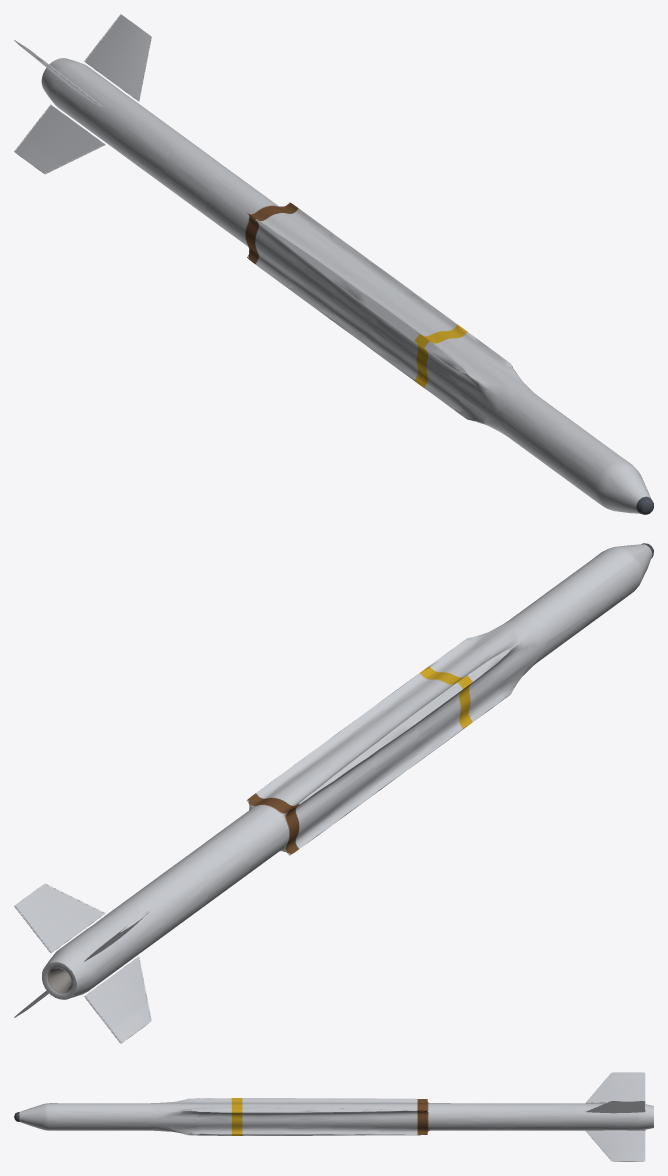
Rendered from irist.glb.
3 views of the same model, one above another, from view 1: azimuth 30°, elevation 25°; view 2: azimuth 150°, elevation 25°; view 3: azimuth 270°, elevation 25° (orthographic). The views are drawn at different scales.
Visible parts, largest first — view 1: airframe, fsim:fin:3419906077:1|elevator+aileron:1+rudder:1@-20,20, fsim:fin:3899119507:1|elevator+aileron:-1+rudder:1@-20,20; view 2: airframe, fsim:fin:3899119507:1|elevator+aileron:-1+rudder:1@-20,20, fsim:fin:3419906077:1|elevator+aileron:1+rudder:1@-20,20; view 3: airframe, fsim:fin:1916934482:1|elevator+aileron:1+rudder:-1@-20,20, fsim:fin:453677541:1|elevator+aileron:-1+rudder:-1@-20,20, fsim:fin:3419906077:1|elevator+aileron:1+rudder:1@-20,20.
Boxes of the visible parts, x1,y1,x2,y2 form: airframe: [41, 58, 653, 514]; fsim:fin:3419906077:1|elevator+aileron:1+rudder:1@-20,20: [84, 14, 151, 101]; fsim:fin:3899119507:1|elevator+aileron:-1+rudder:1@-20,20: [14, 104, 105, 174]; airframe: [42, 543, 653, 999]; fsim:fin:3899119507:1|elevator+aileron:-1+rudder:1@-20,20: [84, 956, 151, 1043]; fsim:fin:3419906077:1|elevator+aileron:1+rudder:1@-20,20: [14, 883, 105, 953]; airframe: [14, 1098, 653, 1135]; fsim:fin:1916934482:1|elevator+aileron:1+rudder:-1@-20,20: [585, 1130, 645, 1161]; fsim:fin:453677541:1|elevator+aileron:-1+rudder:-1@-20,20: [585, 1072, 645, 1103]; fsim:fin:3419906077:1|elevator+aileron:1+rudder:1@-20,20: [585, 1100, 645, 1113].
Size of the model in its own units: 0.3125 by 0.3128 by 2.94.
Materials: 4 (1 with a texture image).
